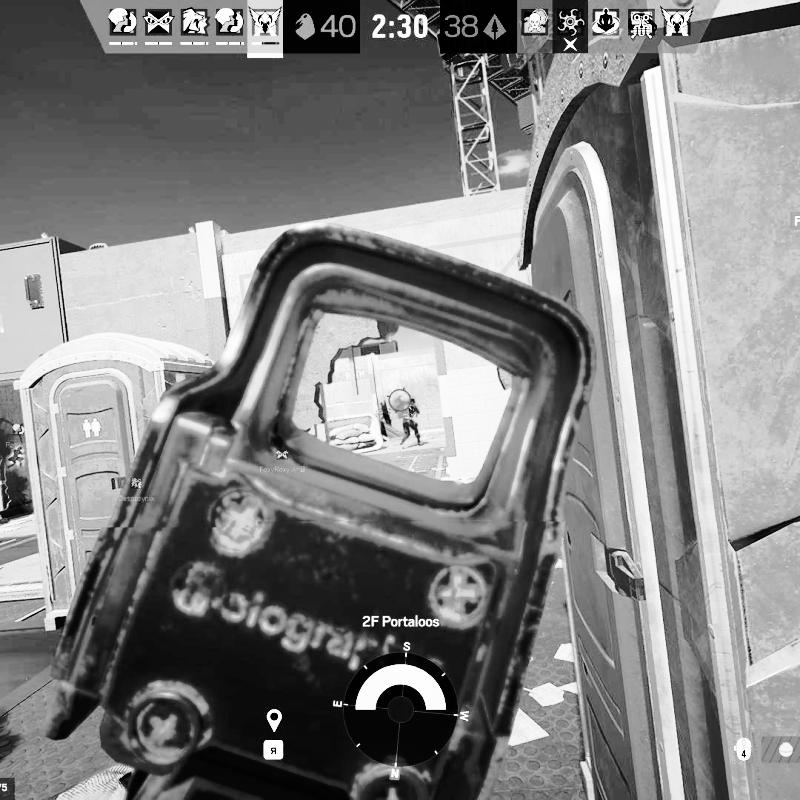Character: (399, 397, 424, 448)
Friend_label: (259, 448, 307, 476), (116, 476, 156, 503), (4, 422, 34, 450)
Head: (408, 398, 416, 406)
